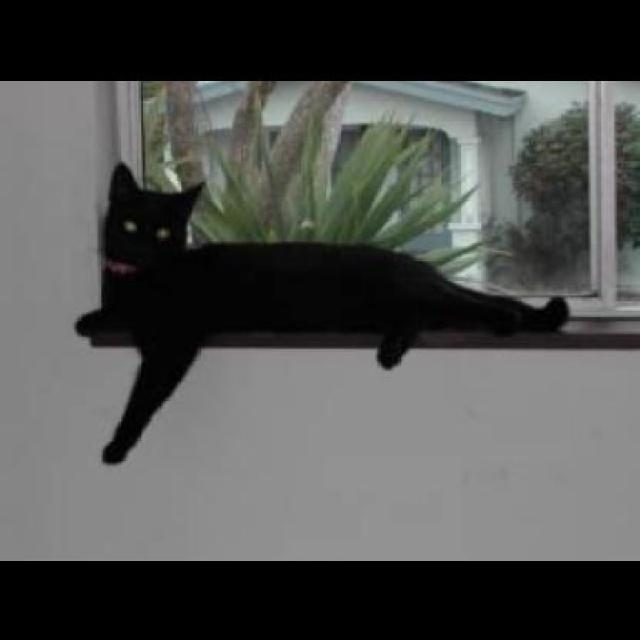unauthorized: (77, 160, 569, 465)
